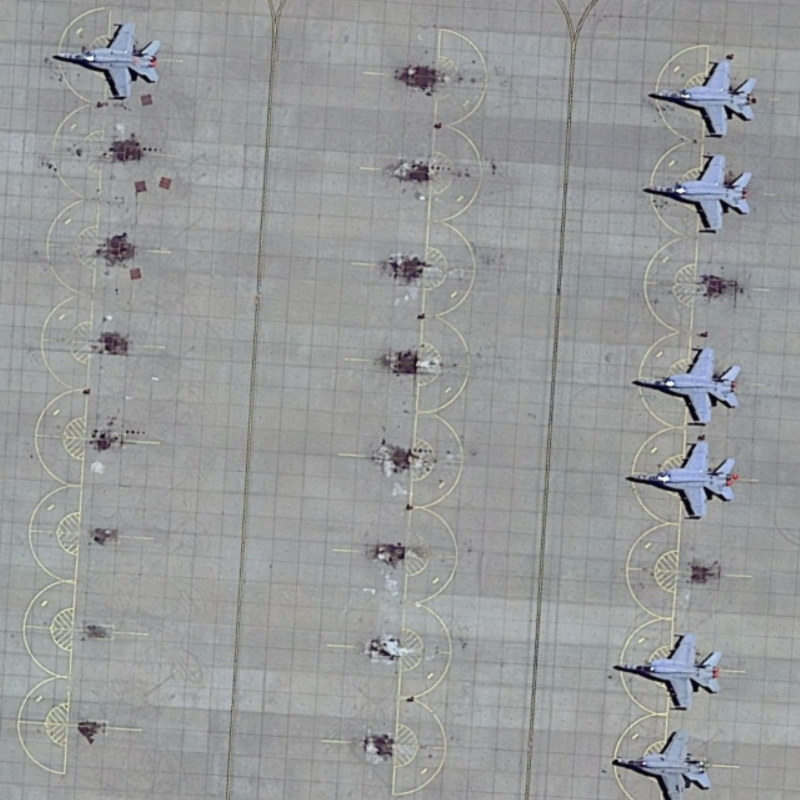A16: (626, 337, 747, 429), (633, 150, 758, 239), (49, 13, 166, 105), (617, 434, 738, 522), (641, 54, 761, 142), (609, 629, 725, 716), (609, 726, 717, 800)
